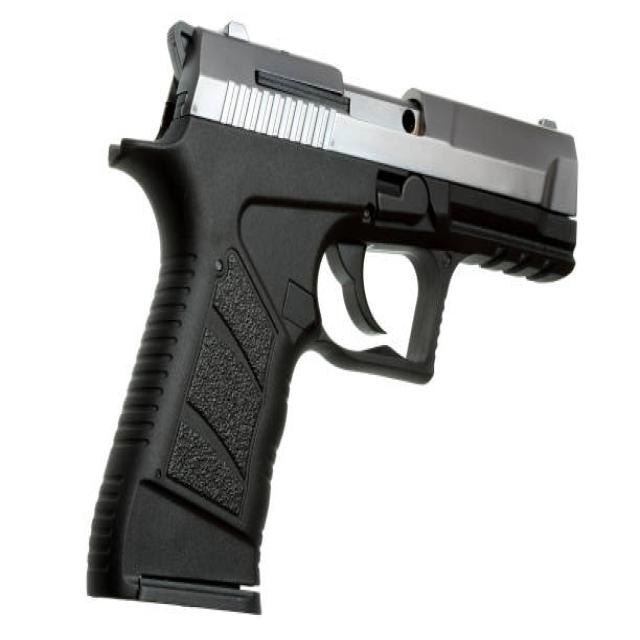pistol: (75, 18, 590, 618)
